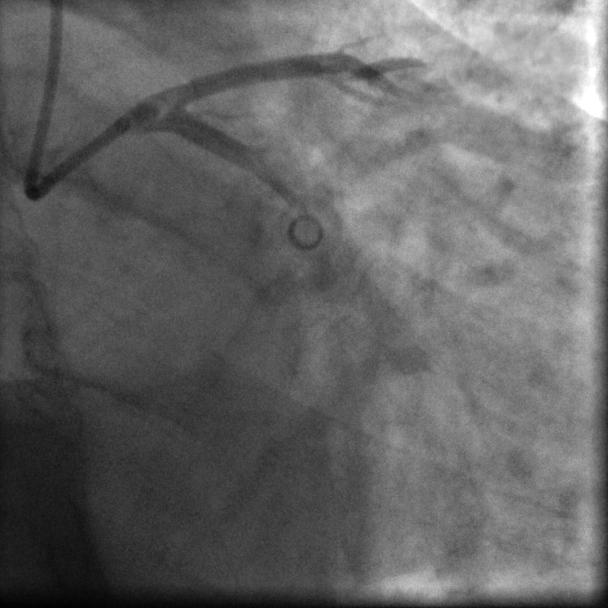Stenosis: (253, 136, 286, 154)
